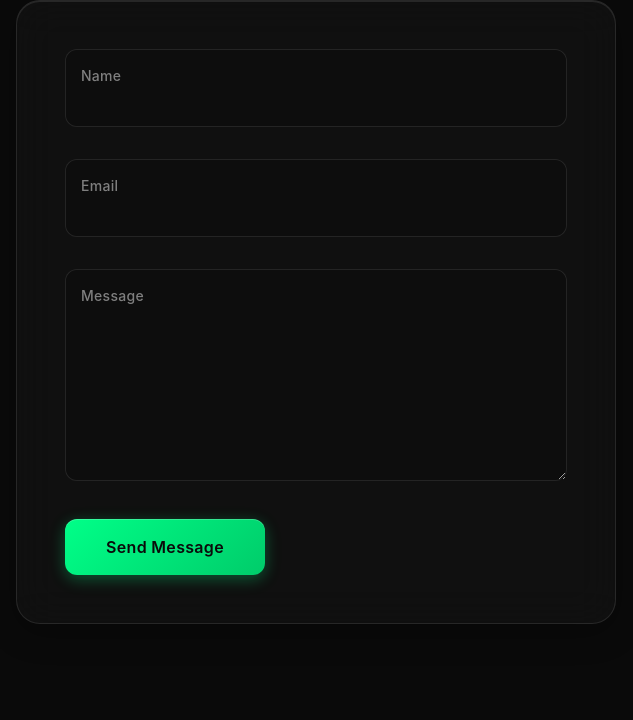
Scenario: ContactForm › displays validation errors for empty fields
The width and height of the screenshot is (633, 720).
Click the button "Send Message". click: (165, 547)
box: [65,519,265,575]
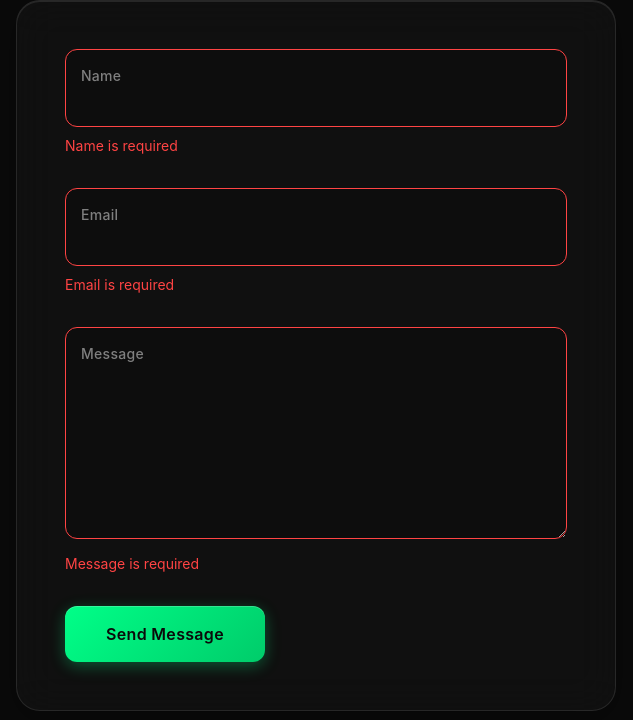
expect the text "Name is required" is shown: met, box [65,137,178,154]
expect the text "Email is required" is shown: met, box [65,276,174,293]
expect the text "Message is required" is shown: met, box [65,555,199,572]
